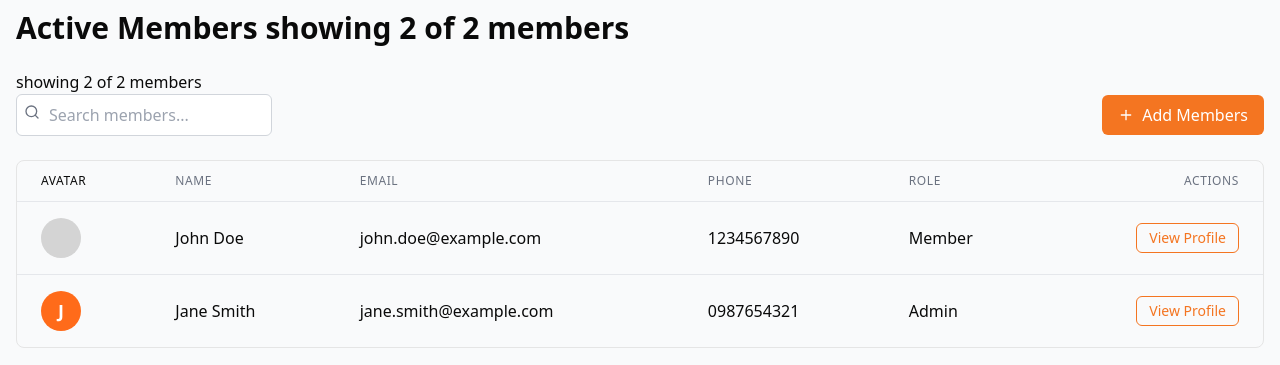
Test: AllMembersPage › filters members based on search query
Expected: the text "John Doe" is shown, 151,202 -> 336,274
Expected: the text "Jane Smith" is shown, 151,274 -> 336,347
Type "john" into the field with placeholder "Search members..." at coordinates (144, 115), box 16,94 -> 272,136
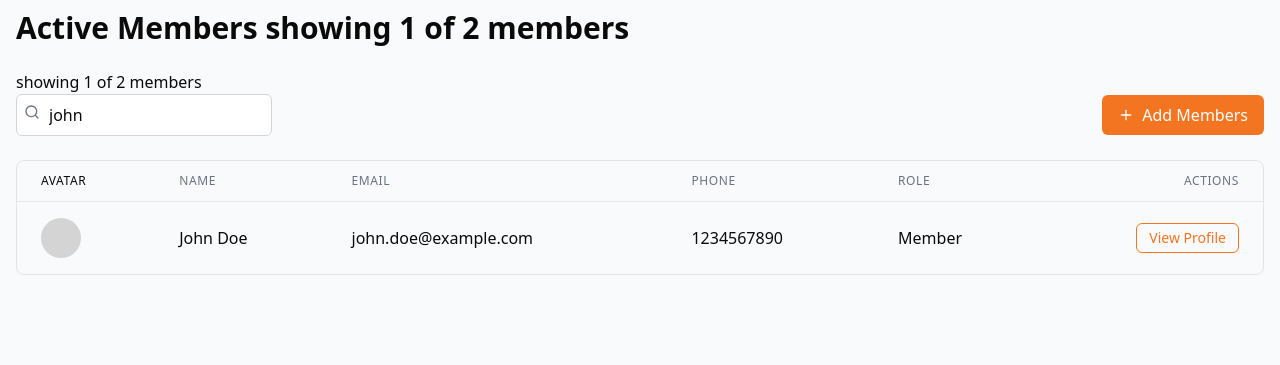
Expected: the text "John Doe" is shown, 155,202 -> 328,274
Now the text "Jane Smith" is gone
Replace the text in the field with placeholder "Search members..." with "smith" at coordinates (144, 115), box 16,94 -> 272,136
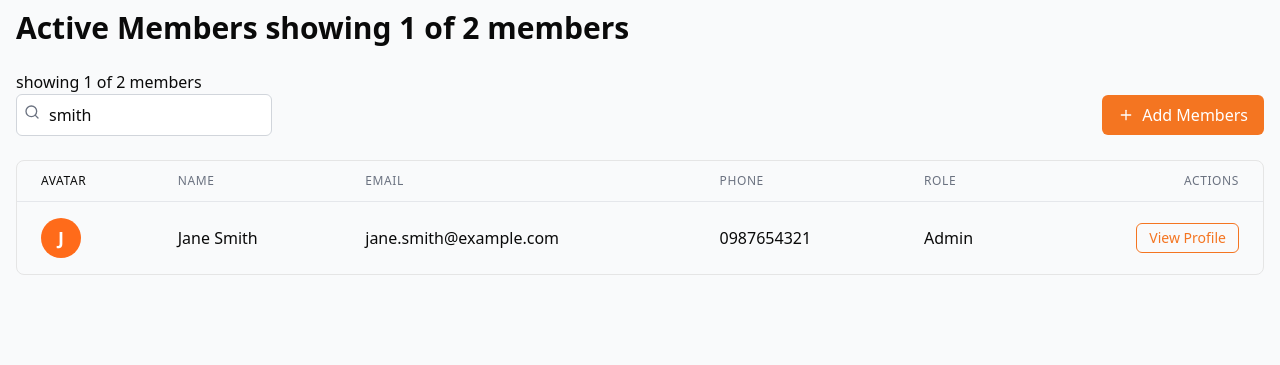
Now the text "John Doe" is gone
Now the text "Jane Smith" is shown, box 154,202 -> 341,274
Replace the text in the field with placeholder "Search members..." with "123" at coordinates (144, 115), box 16,94 -> 272,136
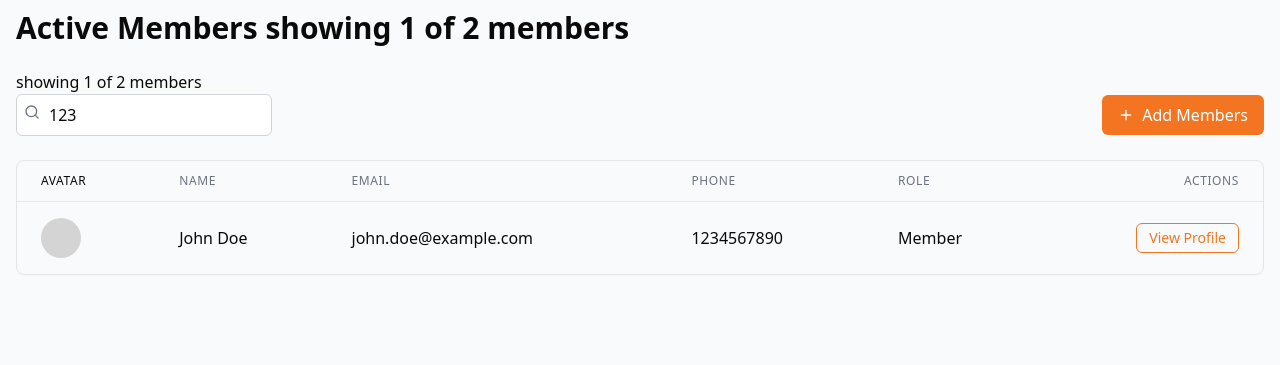
Now the text "John Doe" is shown, box 155,202 -> 328,274
Now the text "Jane Smith" is gone
